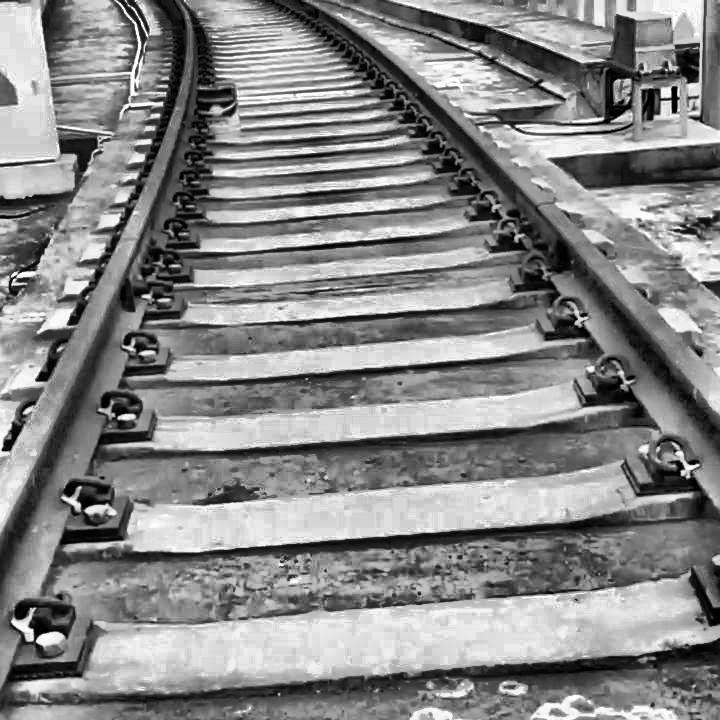Trash: (185, 79, 262, 149)
